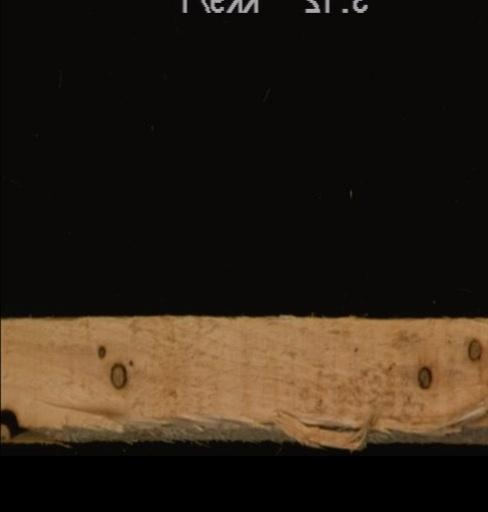dry_knot: (108, 359, 126, 388), (415, 363, 431, 388), (466, 335, 482, 359), (96, 342, 105, 357)
edge_knot: (0, 405, 30, 438)
